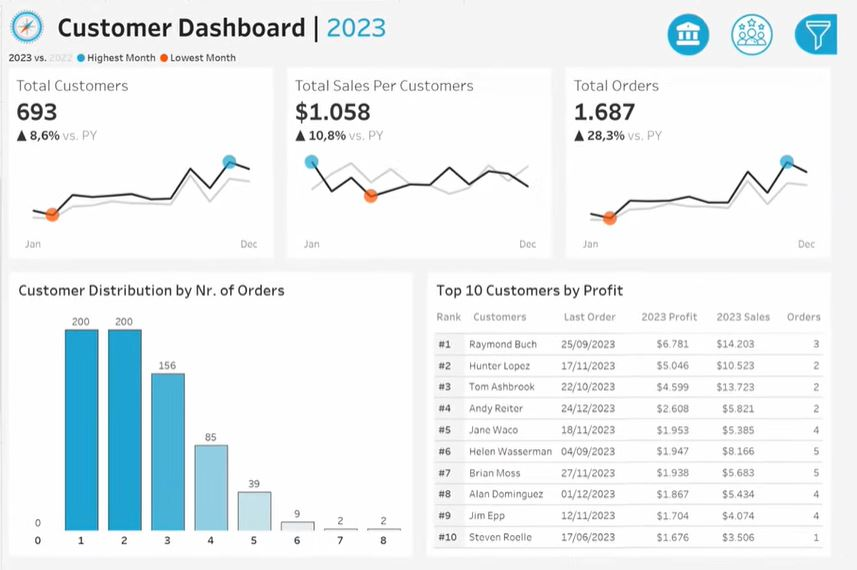

The page's visual inventory and layout, read from the dashboard file:
{"tool":"tableau","page":{"name":"Customer Dashboard ","canvas":[1200,800],"ordinal":0},"visuals":[{"type":"image","param":"Image/Icon - Logo.png","box":[0,0,70,65]},{"type":"text","box":[70,0,1130,65]},{"type":"dashboard-object","box":[936,8,90,71]},{"type":"dashboard-object","box":[1026,8,89,71]},{"type":"dashboard-object","box":[1115,8,89,71]},{"type":"blank","box":[956,19,232,59]},{"type":"worksheet","title":"Legends KPI","mark":"Automatic","box":[0,65,1200,23]},{"type":"text","box":[956,78,232,44]},{"type":"worksheet","title":"KPI Customer","mark":"Line","rows":["Min/Max Sales (copy)_0678457232130053"],"cols":["Order Date"],"box":[0,88,400,290]},{"type":"worksheet","title":"KPI Sales Per Customer","mark":"Line","rows":["Min/Max Sales (copy)_0678457242431498"],"cols":["Order Date"],"box":[400,88,400,290]},{"type":"worksheet","title":"KPI Orders","mark":"Line","rows":["Min/Max Sales (copy)_0678457249071121"],"cols":["Order Date"],"box":[800,88,400,290]},{"type":"parameter","param":"[Parameters].[Parameter 1]","box":[956,122,232,56]},{"type":"blank","box":[956,178,232,56]},{"type":"text","box":[956,234,232,33]},{"type":"filter","title":"KPI Customer","param":"[federated.1jl9sbc1sltlhq1bgdkyt1qdwm82].[none:Category:nk]","box":[956,267,232,61]},{"type":"blank","box":[956,328,232,63]},{"type":"text","box":[956,391,232,33]},{"type":"text","box":[17,395,566,40]},{"type":"text","box":[617,395,566,34]},{"type":"filter","title":"KPI Customer","param":"[federated.1jl9sbc1sltlhq1bgdkyt1qdwm82].[none:Region:nk]","box":[956,424,232,61]},{"type":"text","box":[617,429,52,37]},{"type":"text","box":[669,429,124,37]},{"type":"text","box":[793,429,108,37]},{"type":"text","box":[901,429,106,37]},{"type":"text","box":[1007,429,106,37]},{"type":"text","box":[1113,429,70,37]},{"type":"worksheet","title":"Customer Distribution","mark":"Automatic","rows":["CY Profit (copy)_0678457223499776"],"cols":["Calculation_0678457256484884"],"box":[17,435,566,348]},{"type":"worksheet","title":"Top Customers","mark":"Automatic","rows":["Calculation_0678457260007446","Customer Name","Order Date"],"box":[617,466,566,317]},{"type":"filter","title":"KPI Customer","param":"[federated.1jl9sbc1sltlhq1bgdkyt1qdwm82].[none:State:nk]","box":[956,485,232,61]},{"type":"filter","title":"KPI Customer","param":"[federated.1jl9sbc1sltlhq1bgdkyt1qdwm82].[none:City:nk]","box":[956,546,232,61]}]}

Visuals, with their boxes in screenshot pixels (x1, y1, x2, y2), scaled from the page's 1200x800 canvas onto the 857x570 screenshot:
image: [0,0,50,46]
text: [50,0,856,46]
dashboard-object: [668,6,733,56]
dashboard-object: [733,6,796,56]
dashboard-object: [796,6,856,56]
blank: [683,14,848,56]
"Legends KPI" worksheet: [0,46,856,63]
text: [683,56,848,87]
"KPI Customer" worksheet (Line marks): [0,63,286,269]
"KPI Sales Per Customer" worksheet (Line marks): [286,63,571,269]
"KPI Orders" worksheet (Line marks): [571,63,856,269]
parameter: [683,87,848,127]
blank: [683,127,848,167]
text: [683,167,848,190]
"KPI Customer" filter: [683,190,848,234]
blank: [683,234,848,279]
text: [683,279,848,302]
text: [12,281,416,310]
text: [441,281,845,306]
"KPI Customer" filter: [683,302,848,346]
text: [441,306,478,332]
text: [478,306,566,332]
text: [566,306,643,332]
text: [643,306,719,332]
text: [719,306,795,332]
text: [795,306,845,332]
"Customer Distribution" worksheet: [12,310,416,558]
"Top Customers" worksheet: [441,332,845,558]
"KPI Customer" filter: [683,346,848,389]
"KPI Customer" filter: [683,389,848,432]
